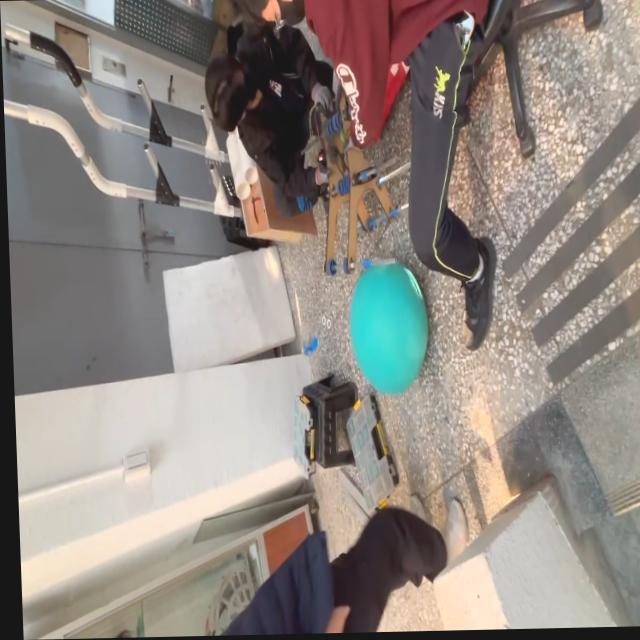ALGAE: (346, 258, 432, 398)
